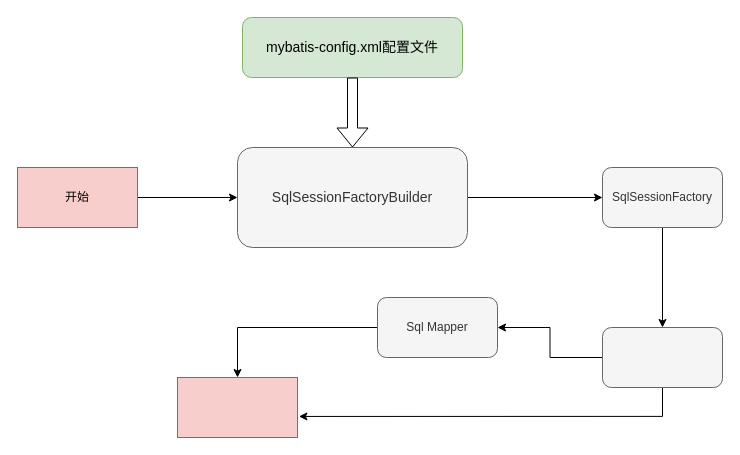
Some shapes in this 740 by 455 pixel diagram are drawn without their labels. The shapes that lost their labels are listed below. From the top down, each one's centre as x and y in pixels, then its label:
At [662,357]: "SqlSession".
At [237,407]: "结束".
